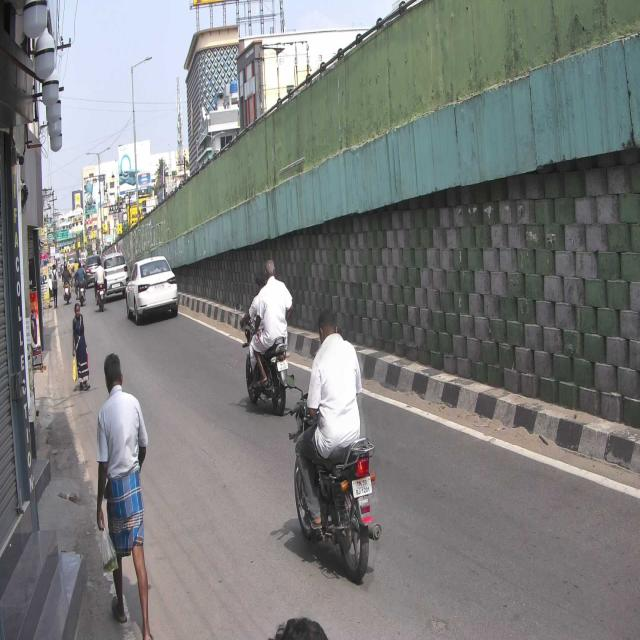single_rider: (287, 309, 383, 581)
